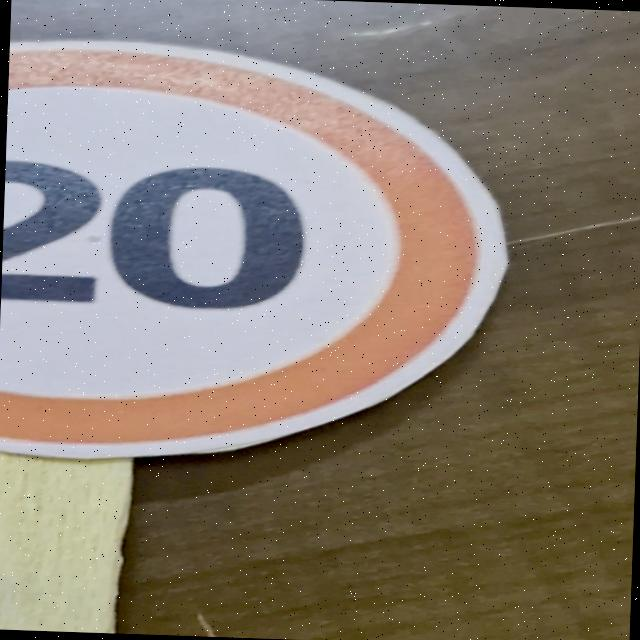Speed20: (0, 6, 531, 479)
